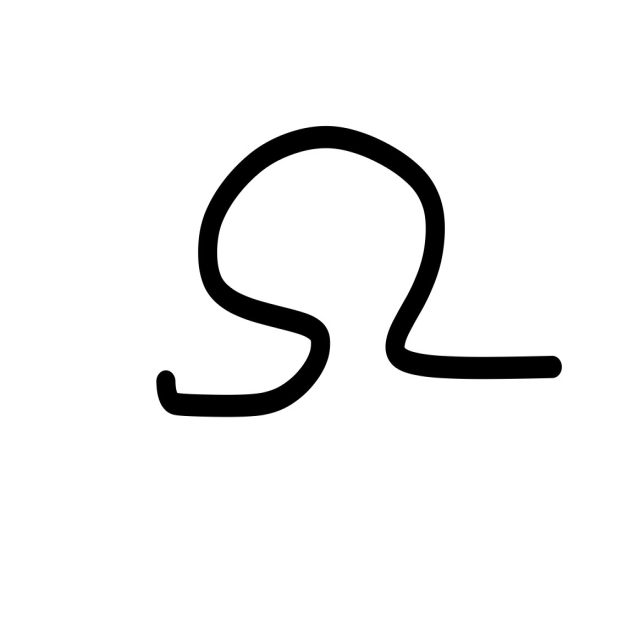ohms: (61, 87, 578, 462)
